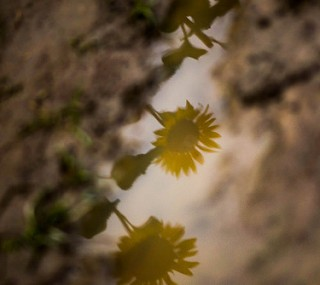flower: (107, 218, 203, 284), (150, 100, 224, 177)
